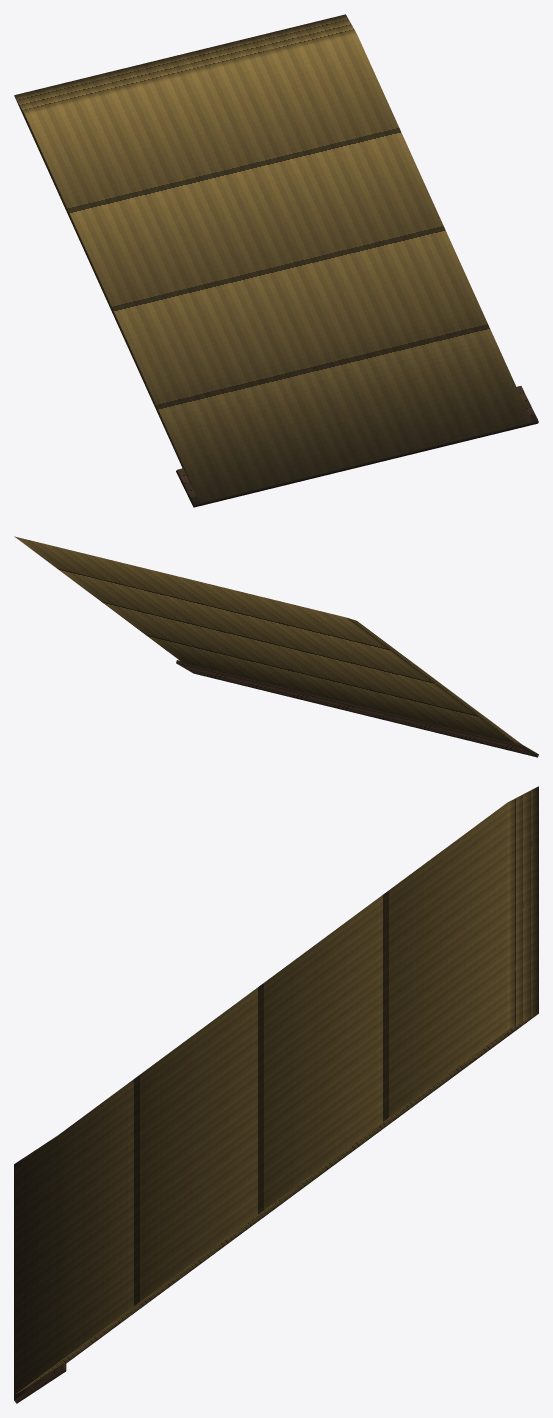
The model's file is roof_slope_thatch.gltf.
The picture shows the model from 3 angles, top to bottom: view 1: azimuth 30°, elevation 25°; view 2: azimuth 150°, elevation 25°; view 3: azimuth 270°, elevation 25°; orthographic projection. The views are drawn at different scales.
Parts seen in each view (by area): view 1: roof_slope_thatch; view 2: roof_slope_thatch; view 3: roof_slope_thatch.
Boxes of the visible parts, <box> form: roof_slope_thatch: <box>14,14,538,507</box>; roof_slope_thatch: <box>14,536,538,757</box>; roof_slope_thatch: <box>14,786,538,1403</box>.
Bounding box in the file's own units: 1.17 × 0.889 × 1.1.
Materials: 1 (1 with a texture image).
